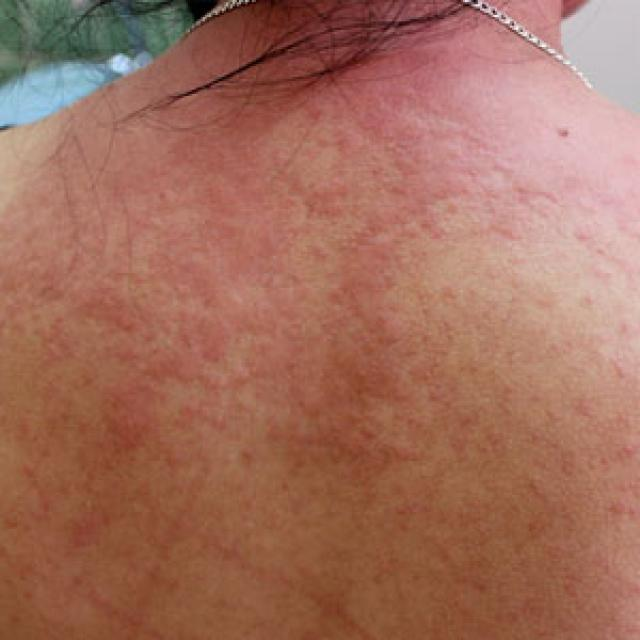Eczema: (32, 0, 564, 613)
